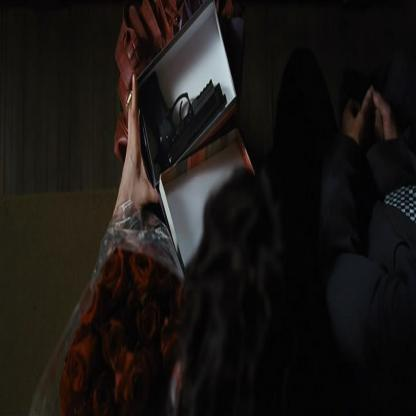gun: (126, 51, 232, 172)
